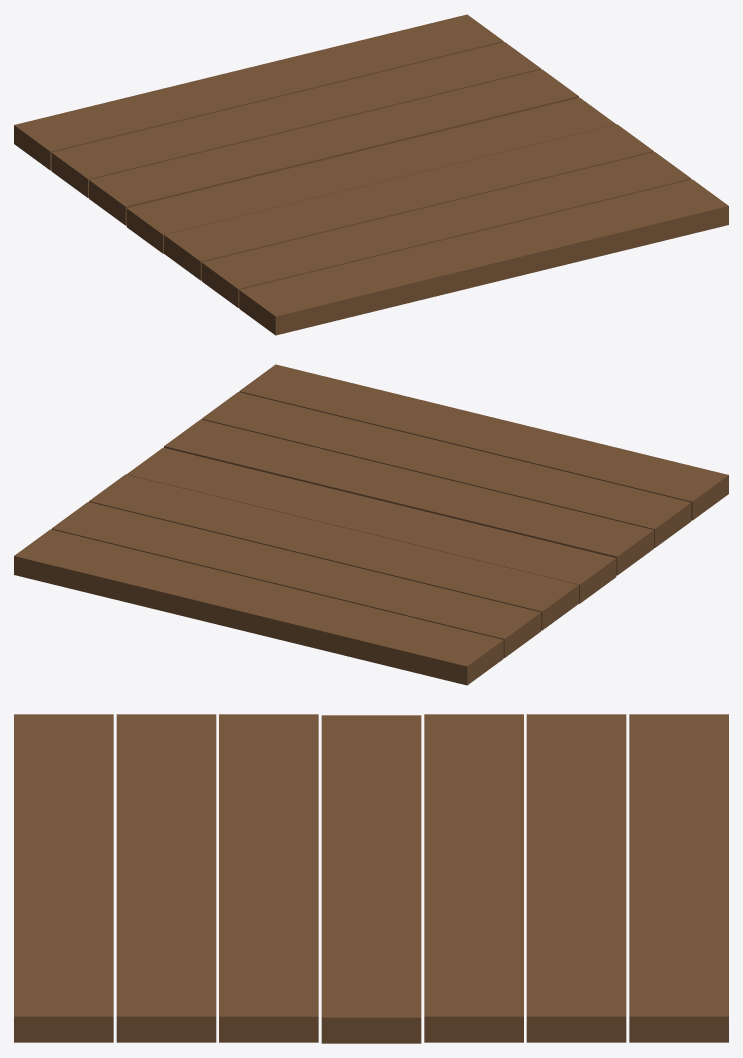
Rendered from SM_Wall_RusticLog_01_Floor.glb.
3 renders of one model, top to bottom at view 1: azimuth 30°, elevation 25°; view 2: azimuth 150°, elevation 25°; view 3: azimuth 270°, elevation 25°, orthographic. The views are drawn at different scales.
Visible parts, largest first — view 1: SM_Wall_RusticLog_01_Floor_Plank0, SM_Wall_RusticLog_01_Floor_Plank4, SM_Wall_RusticLog_01_Floor_Plank1, SM_Wall_RusticLog_01_Floor_Plank2, SM_Wall_RusticLog_01_Floor_Plank6, SM_Wall_RusticLog_01_Floor_Plank5, SM_Wall_RusticLog_01_Floor_Plank3; view 2: SM_Wall_RusticLog_01_Floor_Plank6, SM_Wall_RusticLog_01_Floor_Plank2, SM_Wall_RusticLog_01_Floor_Plank5, SM_Wall_RusticLog_01_Floor_Plank4, SM_Wall_RusticLog_01_Floor_Plank0, SM_Wall_RusticLog_01_Floor_Plank1, SM_Wall_RusticLog_01_Floor_Plank3; view 3: SM_Wall_RusticLog_01_Floor_Plank1, SM_Wall_RusticLog_01_Floor_Plank3, SM_Wall_RusticLog_01_Floor_Plank5, SM_Wall_RusticLog_01_Floor_Plank2, SM_Wall_RusticLog_01_Floor_Plank4, SM_Wall_RusticLog_01_Floor_Plank6, SM_Wall_RusticLog_01_Floor_Plank0.
Boxes of the visible parts, x1=… form: SM_Wall_RusticLog_01_Floor_Plank0: x1=239, y1=179, x2=728, y2=335; SM_Wall_RusticLog_01_Floor_Plank4: x1=89, y1=69, x2=578, y2=225; SM_Wall_RusticLog_01_Floor_Plank1: x1=201, y1=152, x2=691, y2=307; SM_Wall_RusticLog_01_Floor_Plank2: x1=164, y1=124, x2=653, y2=280; SM_Wall_RusticLog_01_Floor_Plank6: x1=14, y1=14, x2=503, y2=170; SM_Wall_RusticLog_01_Floor_Plank5: x1=51, y1=42, x2=541, y2=197; SM_Wall_RusticLog_01_Floor_Plank3: x1=126, y1=97, x2=616, y2=253; SM_Wall_RusticLog_01_Floor_Plank6: x1=14, y1=529, x2=503, y2=685; SM_Wall_RusticLog_01_Floor_Plank2: x1=164, y1=419, x2=653, y2=575; SM_Wall_RusticLog_01_Floor_Plank5: x1=51, y1=502, x2=541, y2=657; SM_Wall_RusticLog_01_Floor_Plank4: x1=89, y1=474, x2=578, y2=630; SM_Wall_RusticLog_01_Floor_Plank0: x1=239, y1=364, x2=728, y2=520; SM_Wall_RusticLog_01_Floor_Plank1: x1=201, y1=392, x2=691, y2=547; SM_Wall_RusticLog_01_Floor_Plank3: x1=126, y1=447, x2=616, y2=603; SM_Wall_RusticLog_01_Floor_Plank1: x1=116, y1=714, x2=216, y2=1042; SM_Wall_RusticLog_01_Floor_Plank3: x1=321, y1=715, x2=421, y2=1043; SM_Wall_RusticLog_01_Floor_Plank5: x1=526, y1=714, x2=626, y2=1042; SM_Wall_RusticLog_01_Floor_Plank2: x1=219, y1=714, x2=318, y2=1042; SM_Wall_RusticLog_01_Floor_Plank4: x1=424, y1=714, x2=523, y2=1042; SM_Wall_RusticLog_01_Floor_Plank6: x1=629, y1=714, x2=728, y2=1042; SM_Wall_RusticLog_01_Floor_Plank0: x1=14, y1=714, x2=113, y2=1042.
Size of the model in its own units: 2 by 0.083 by 2.
